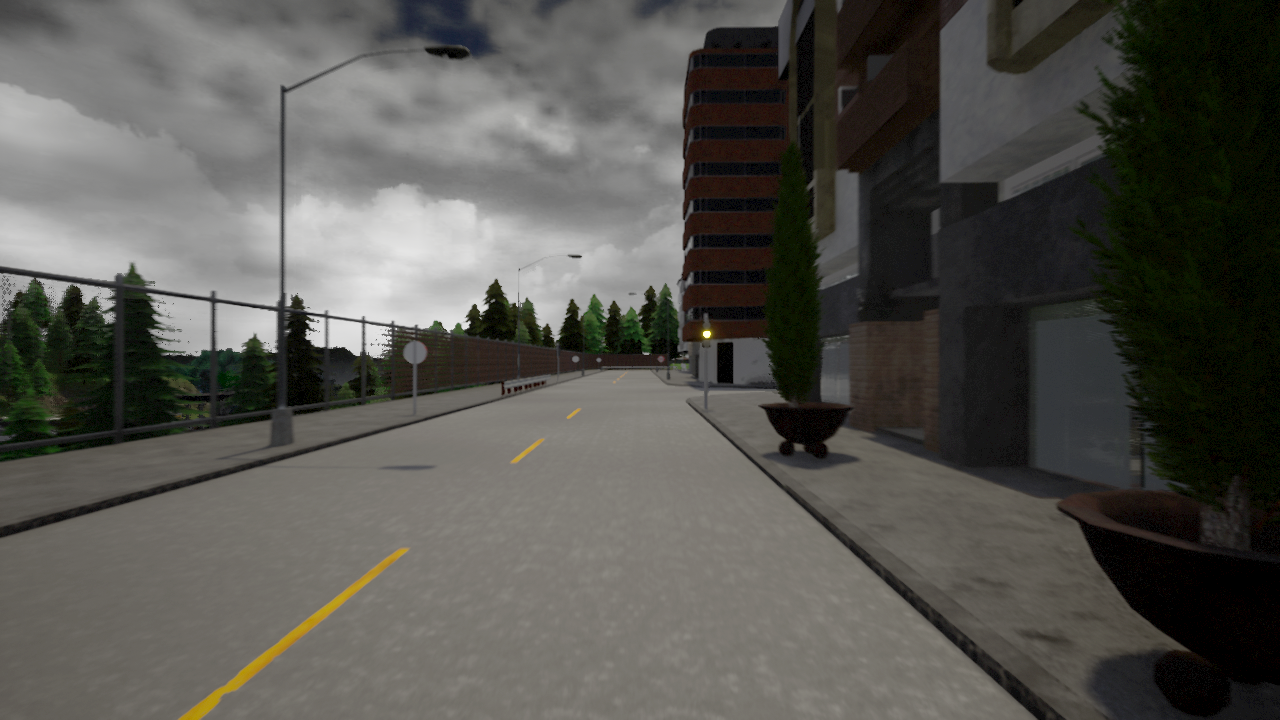yellow: (701, 320, 715, 351)
